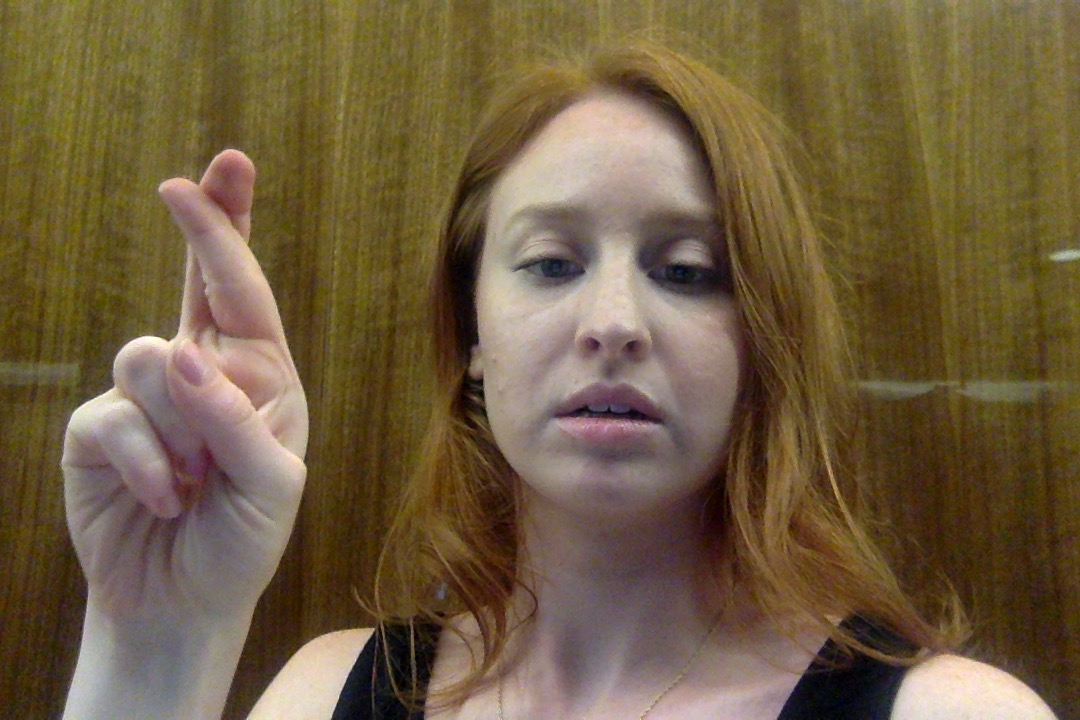r: (53, 142, 316, 613)
